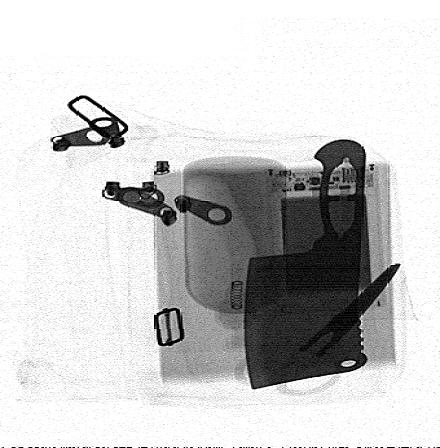Knife: (242, 141, 369, 389)
Powerbank: (259, 163, 381, 317)
Scissors: (230, 259, 401, 398)
